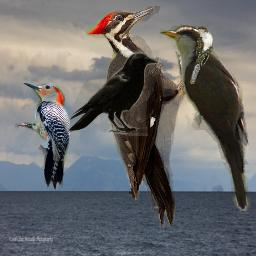Crow: (65, 50, 159, 136)
Cuckoo: (159, 25, 252, 213), (190, 26, 213, 84)
Woodpecker: (86, 6, 205, 229), (15, 83, 70, 190)
